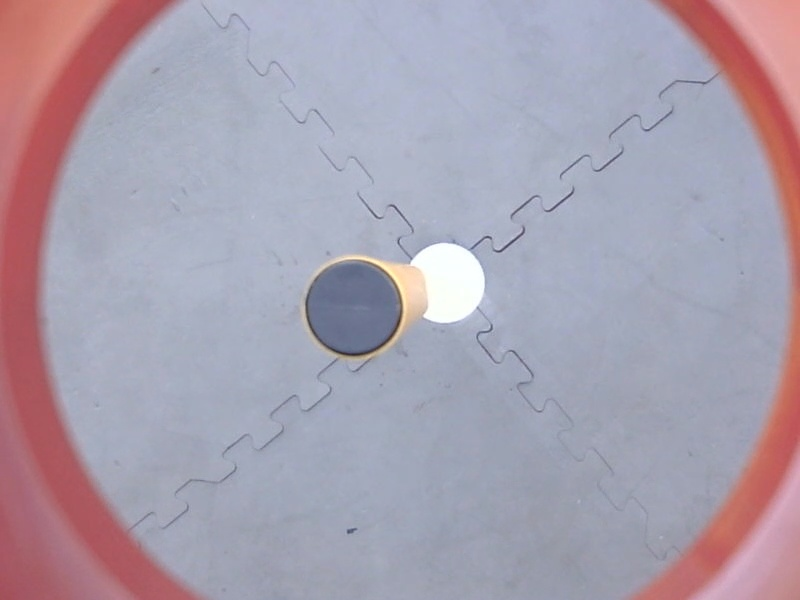tip: (296, 249, 416, 368)
